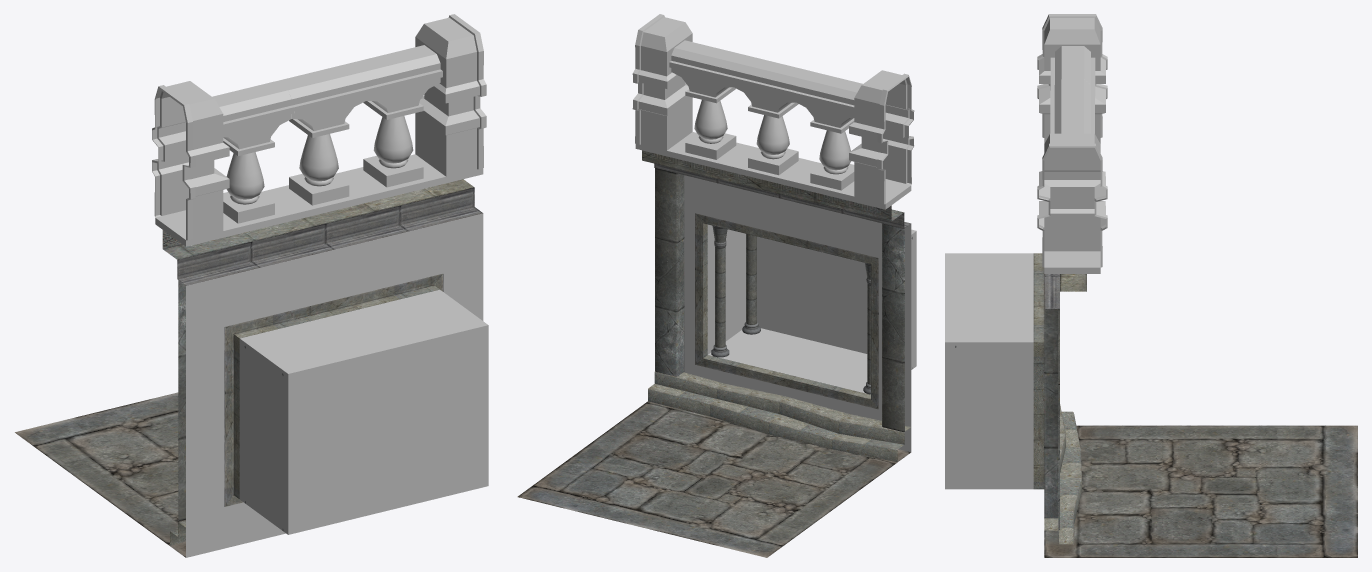
File: UnderWall1Crypt.FBX
3 views of the same model, side by side, from view 1: azimuth 30°, elevation 25°; view 2: azimuth 150°, elevation 25°; view 3: azimuth 270°, elevation 25° (orthographic). The views are drawn at different scales.
Parts seen in each view (by area): view 1: Box11; view 2: Box11; view 3: Box11.
Part boxes in pixels (left/top/right/bottom): Box11: left=15, top=14, right=488, bottom=557; Box11: left=517, top=14, right=916, bottom=557; Box11: left=945, top=14, right=1357, bottom=557.
Size of the model in its own units: 500 by 725 by 658.
